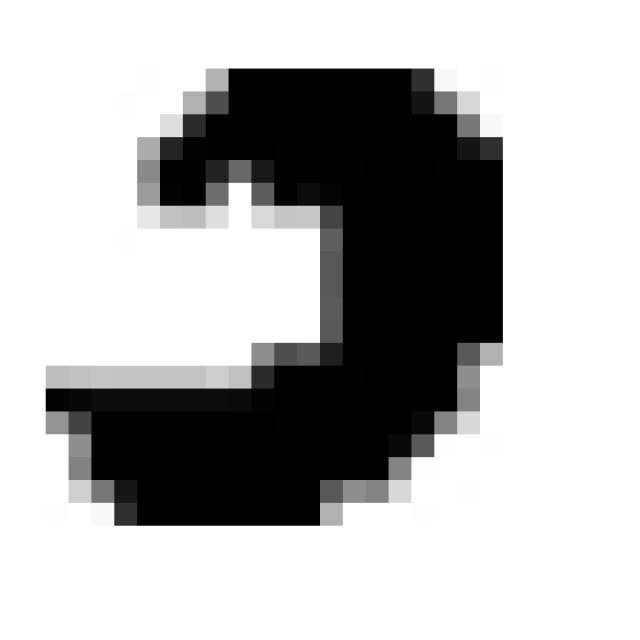0 -zero-: (32, 46, 523, 545)
